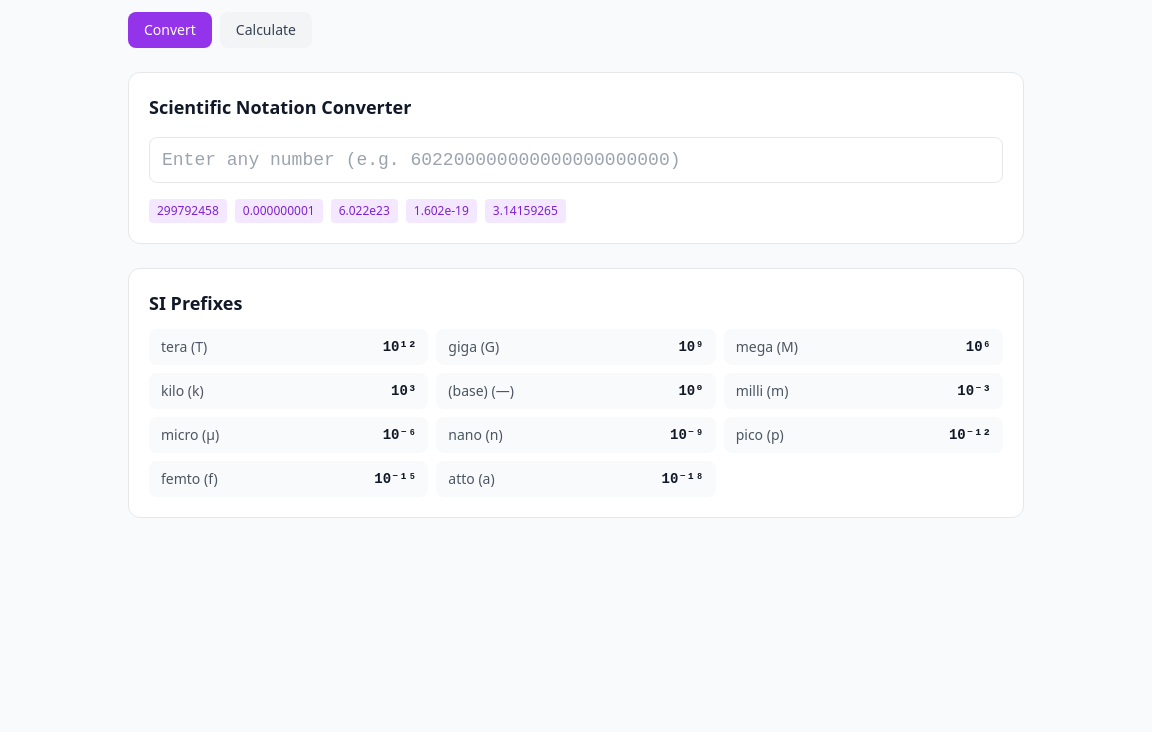
Scenario: ScientificNotationCalculator – functional › converts number to scientific notation reactively
Type "299792458" into the field at x=576, y=160, box [149,137,1003,183]
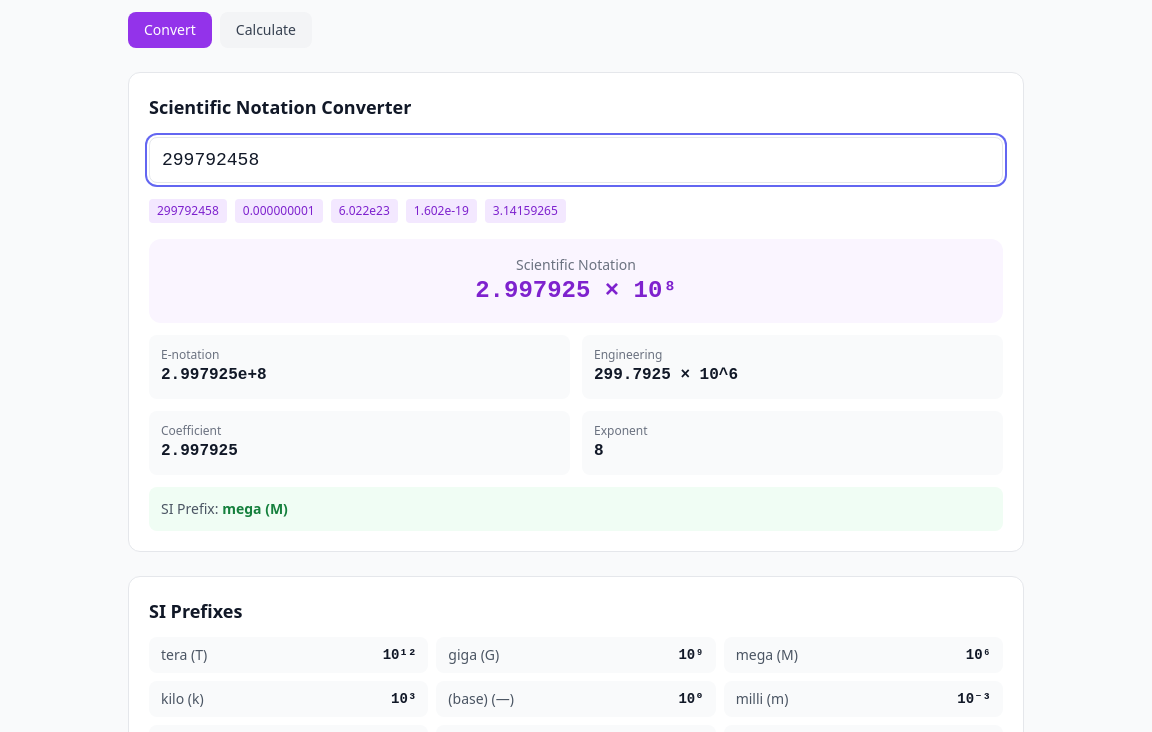
Check: the text "2.997925 × 10⁸" is shown, box [475,277,677,304]
